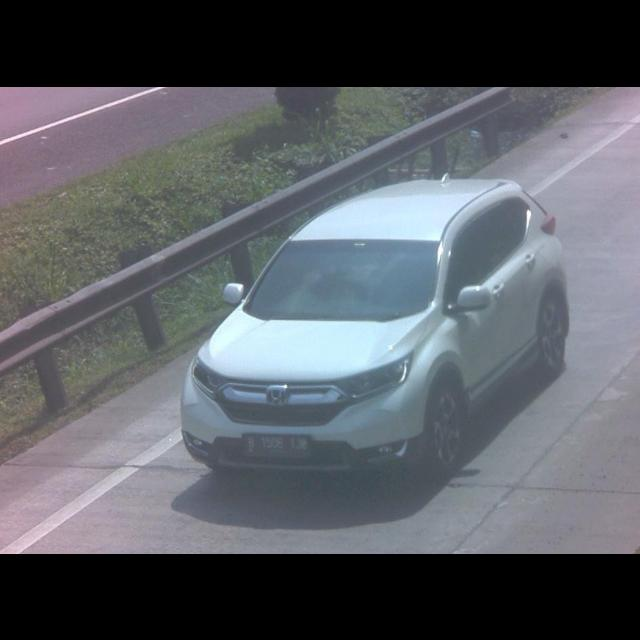plate: (242, 429, 310, 456)
